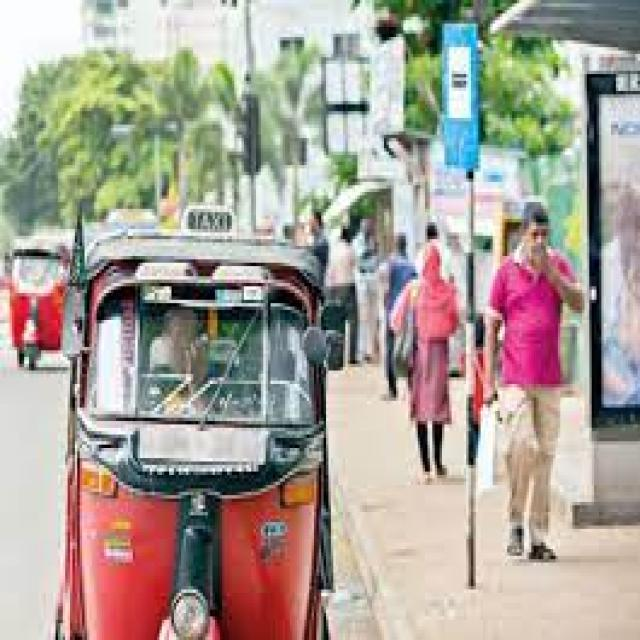person: (572, 171, 640, 472), (461, 205, 538, 398), (452, 196, 486, 336)
three wheeler: (71, 193, 384, 535), (14, 202, 80, 310)
